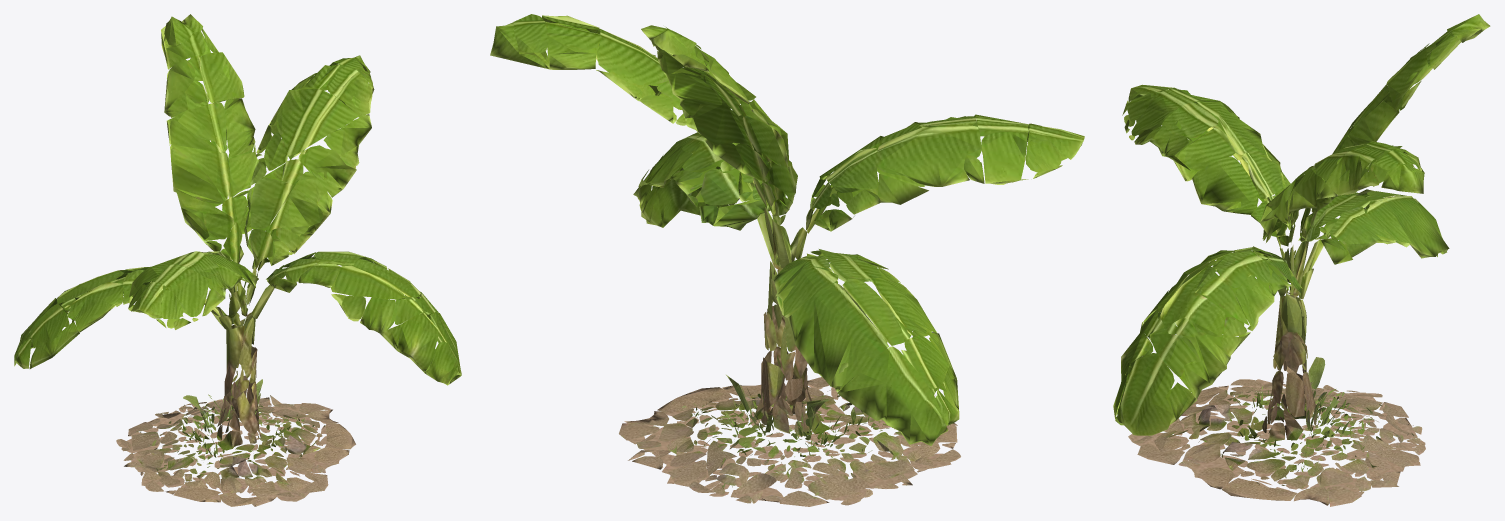
File: young.glb
The picture shows the model from 3 angles, left to right: view 1: azimuth 30°, elevation 25°; view 2: azimuth 150°, elevation 25°; view 3: azimuth 270°, elevation 25°; orthographic projection. The views are drawn at different scales.
Parts seen in each view (by area): view 1: young; view 2: young; view 3: young.
Boxes of the visible parts, x1,y1,x2,y2 form: young: (14,14,461,506); young: (490,14,1084,506); young: (1113,14,1490,506).
Size of the model in its own units: 1.89 by 1.91 by 1.49.
1 material, 1 textured.
